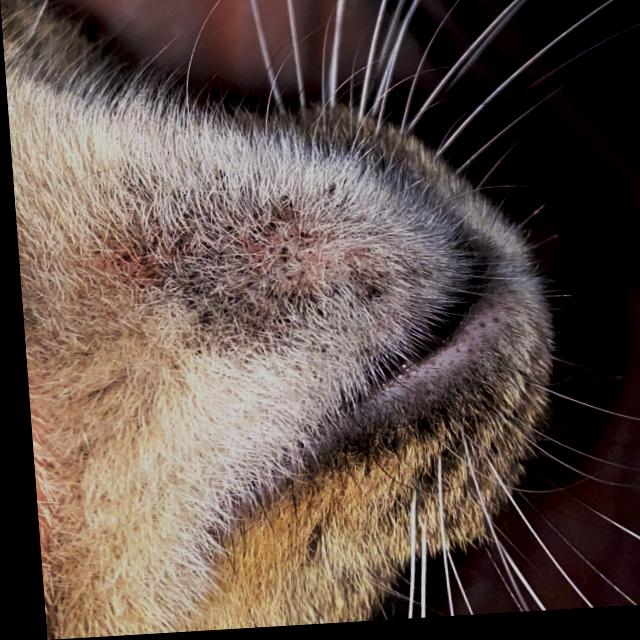acne: (164, 221, 350, 347)
